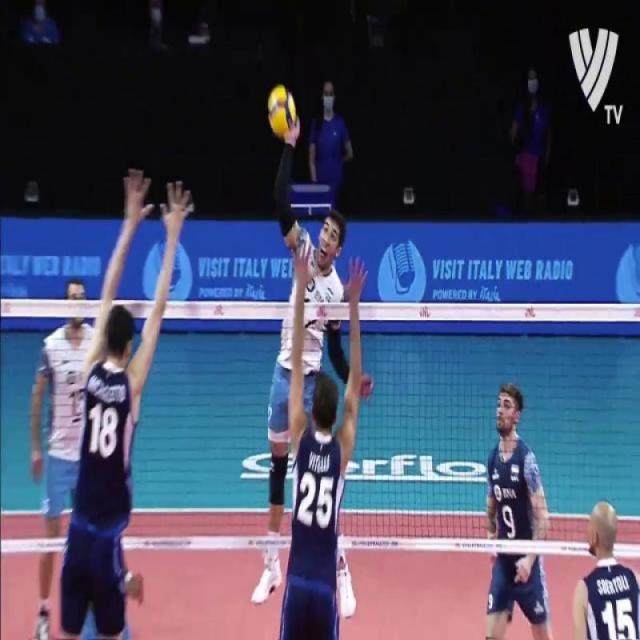volleyball: (268, 85, 296, 138)
